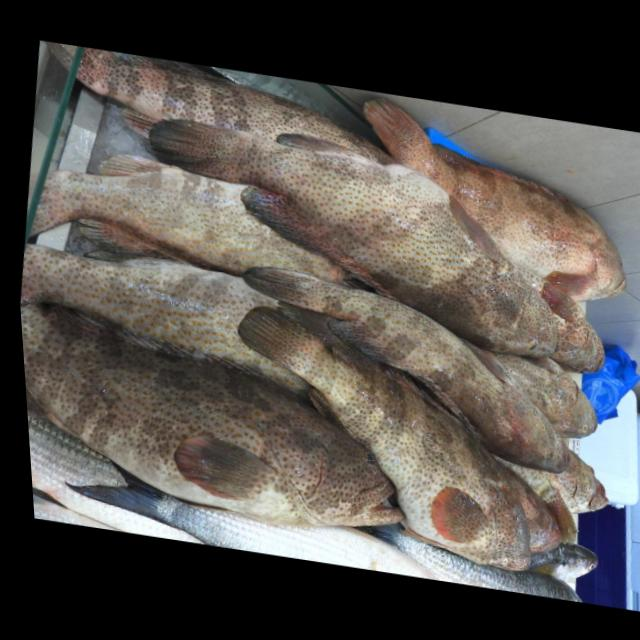Groupers: (126, 113, 582, 360), (208, 300, 557, 571), (21, 310, 430, 540), (225, 263, 587, 473), (338, 94, 640, 315)
